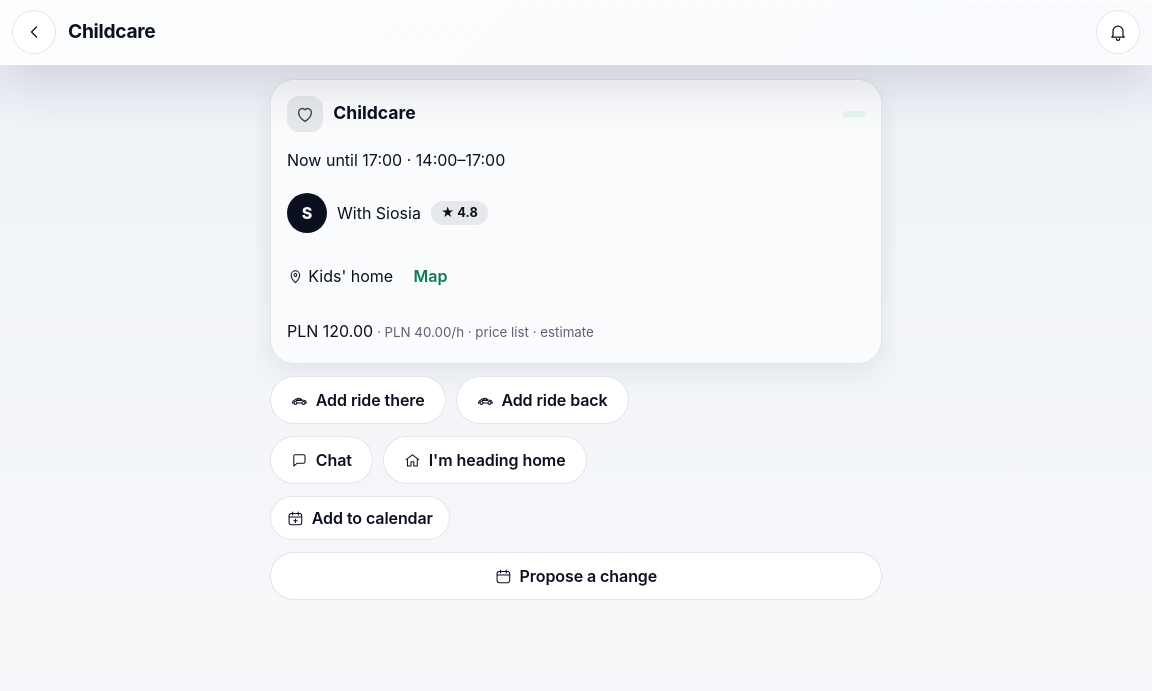
Test case: C3 a new length (FR-335) › a live session: the new length with the new end and price from the rate
Later steps or results of the test are not shown.
Step 1. Click the button with test id "appt-change" → (576, 576), box [270,552,882,600]
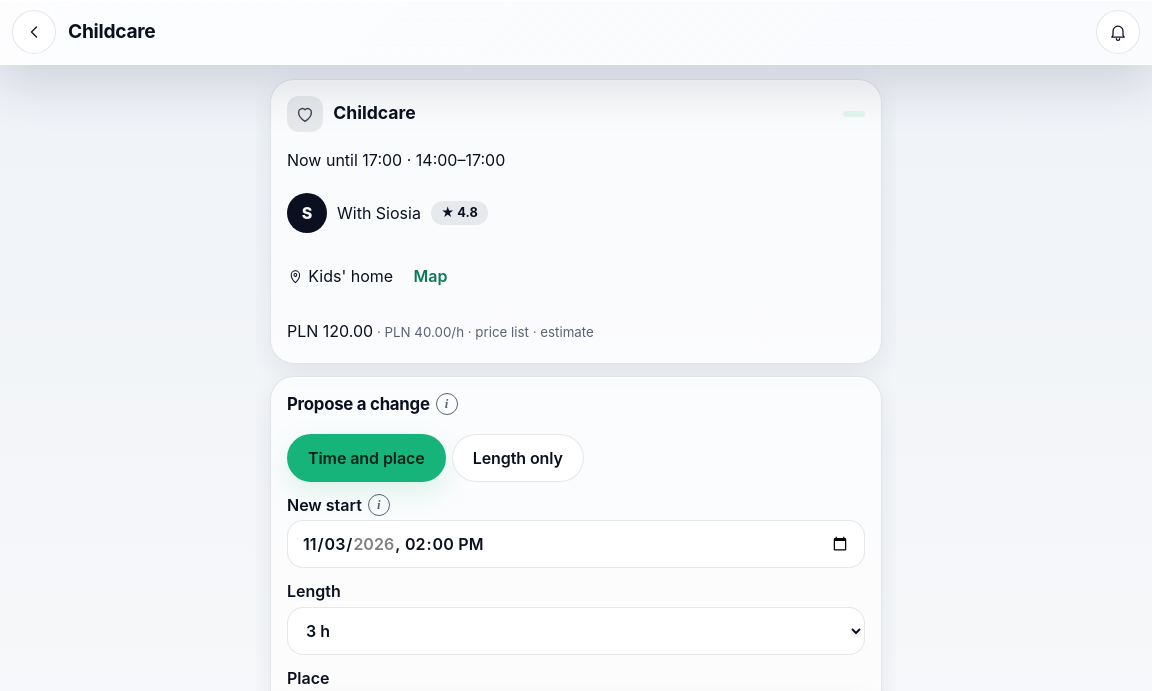
Step 2. Click the button with test id "change-mode-length" → (518, 458), box [452,434,584,482]
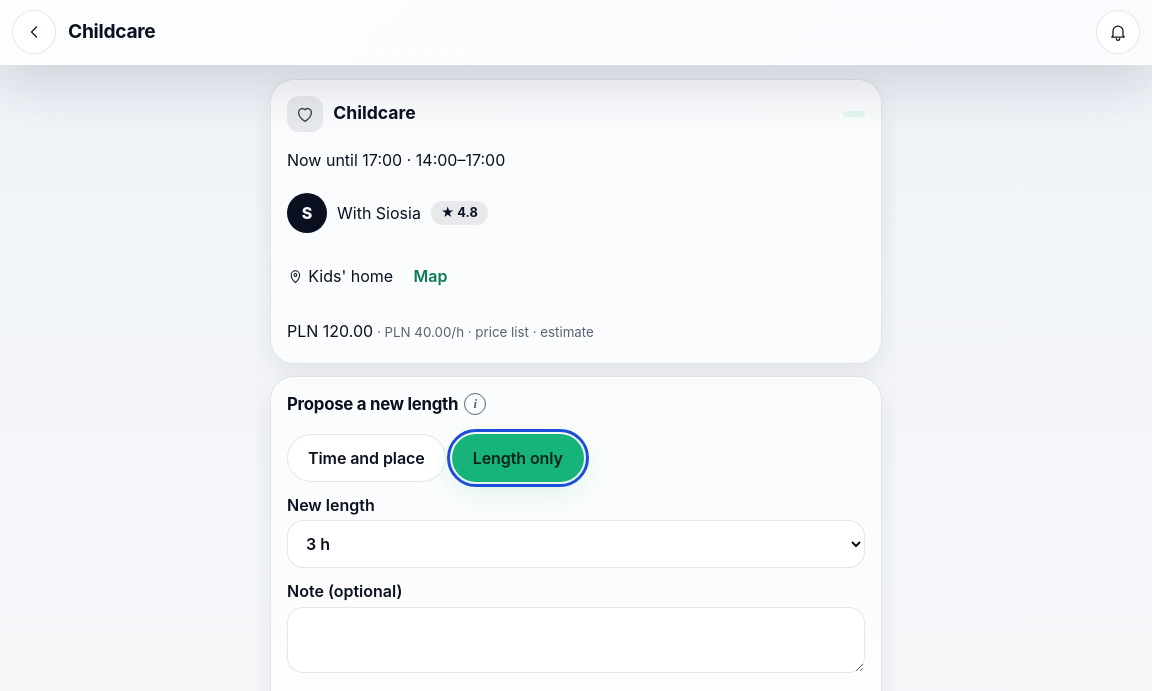
Expected: the element with test id "change-sheet" shows "Propose a new length", [287,394,458,414]
Expected: the field with test id "change-start" is gone
Step 3. Select "4 h" in the dropdown with test id "change-minutes" → (576, 544), box [287,520,865,568]
(page scrolled)
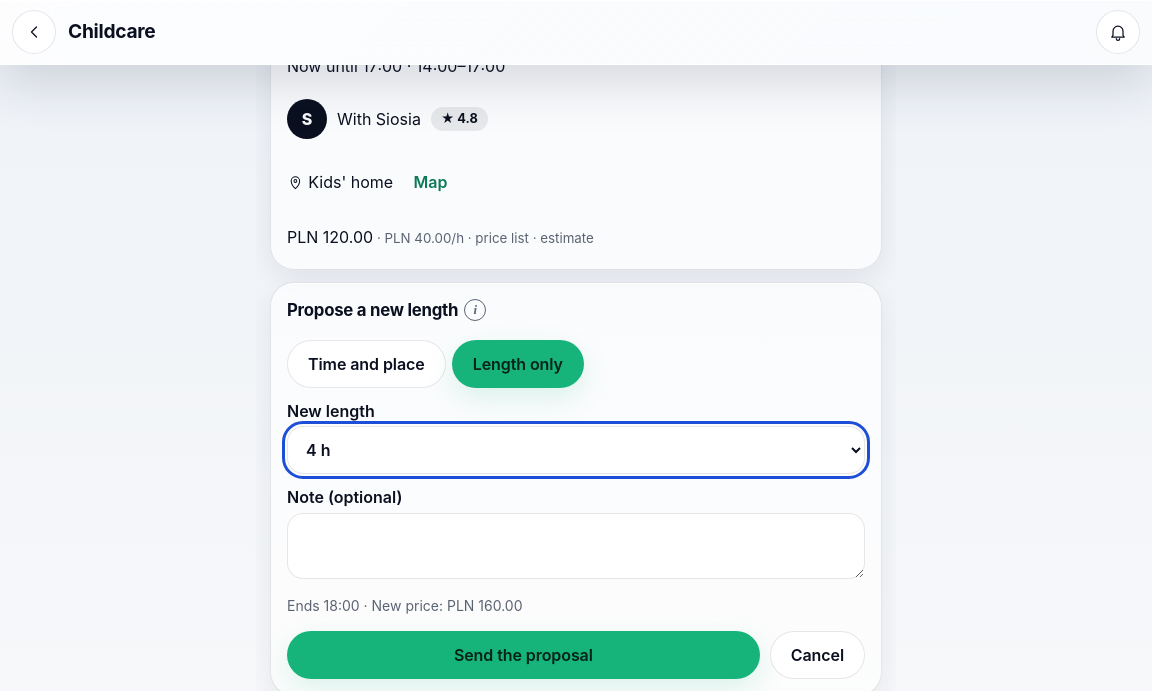
Expected: the element with test id "change-preview" shows "Ends 18:00", [287,597,360,614]
Expected: the element with test id "change-preview" shows "160.00", [447,597,522,614]
